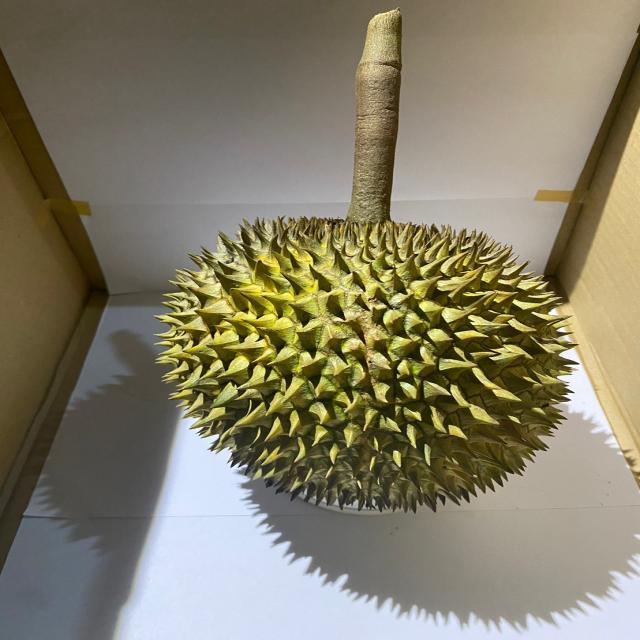immature: (151, 211, 583, 517)
